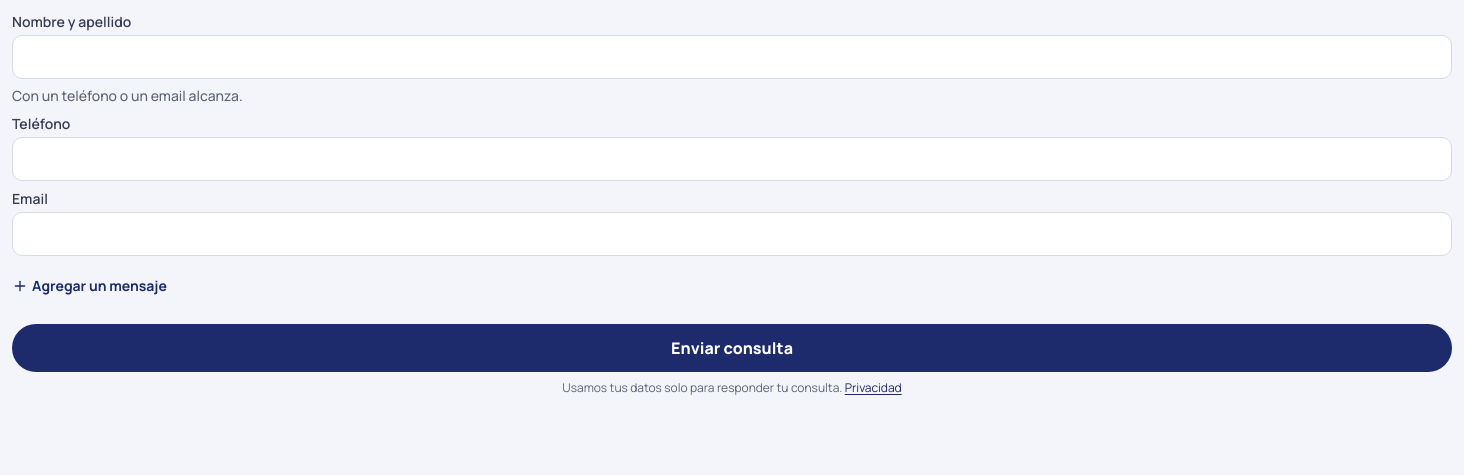
Test case: PropertyInquiryForm message toggle (collapsed on desktop) › starts open when the message has an error
In the field labelled "Nombre y apellido": (732, 57) [12,35,1452,79], type "Ana"
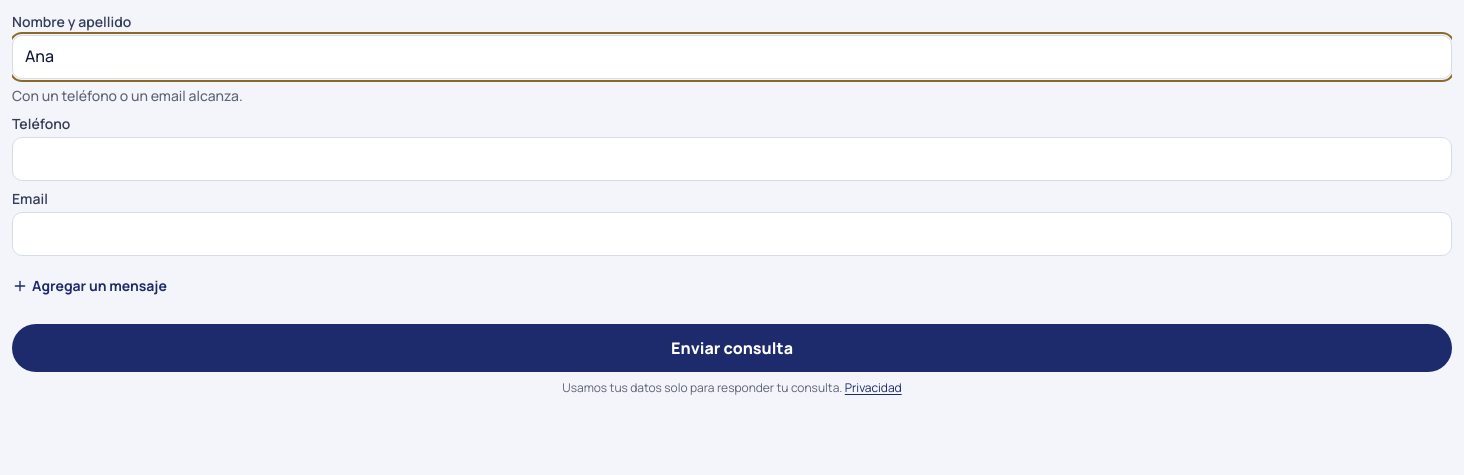
Click the button "Enviar consulta": (732, 348) [12,324,1452,372]
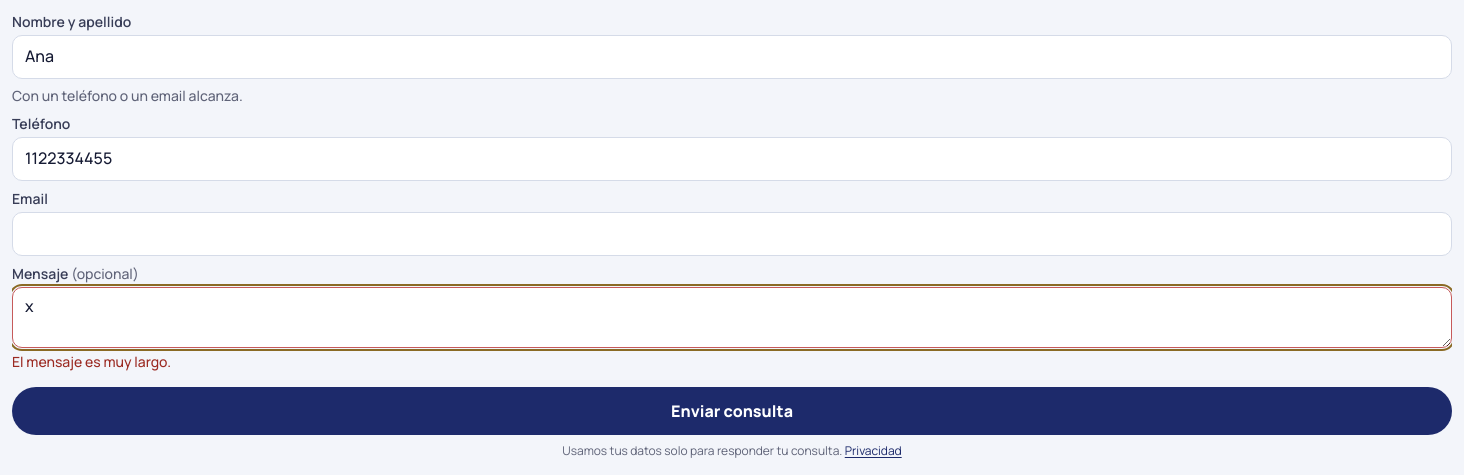
expect the text "El mensaje es muy largo." is shown: met, box [12,352,171,371]
